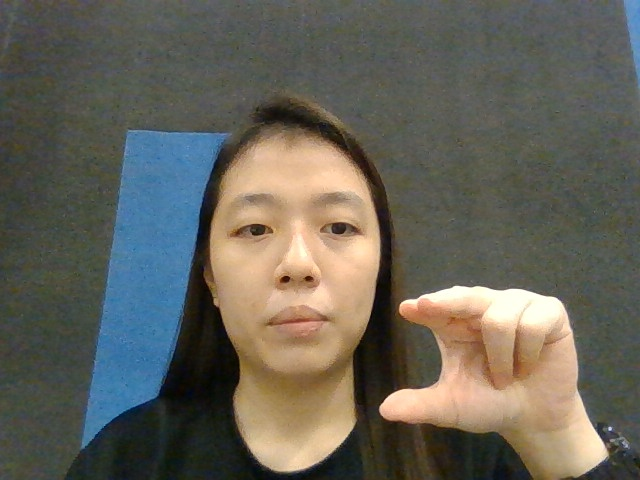no: (383, 279, 582, 427)
